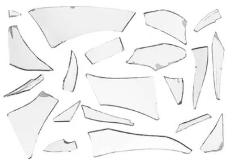glass: (2, 5, 226, 160)
